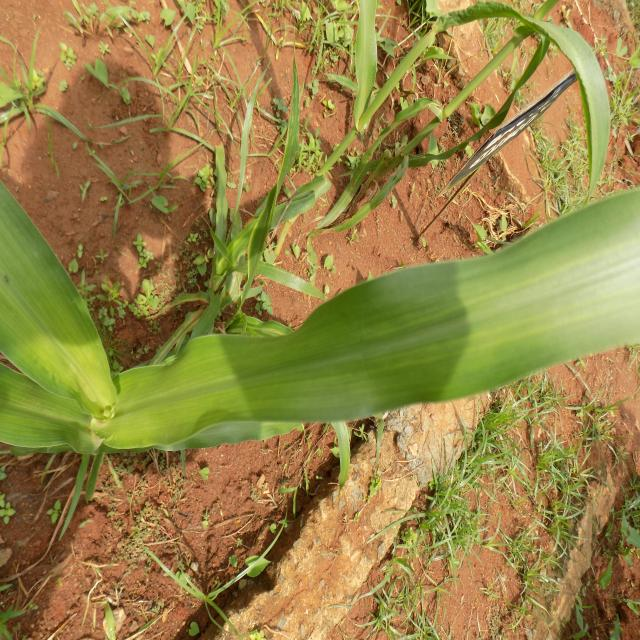millet_healthy: (108, 225, 640, 447), (440, 5, 611, 185), (0, 176, 117, 404), (0, 362, 104, 450), (236, 187, 292, 300), (277, 58, 303, 185), (355, 0, 379, 126)
